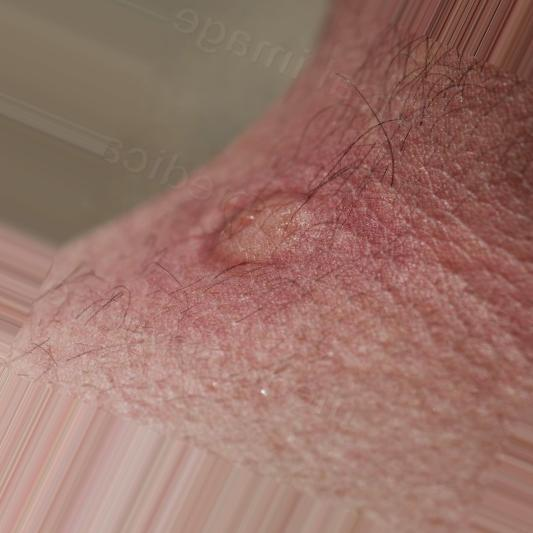Mosquito: (195, 187, 333, 274)
